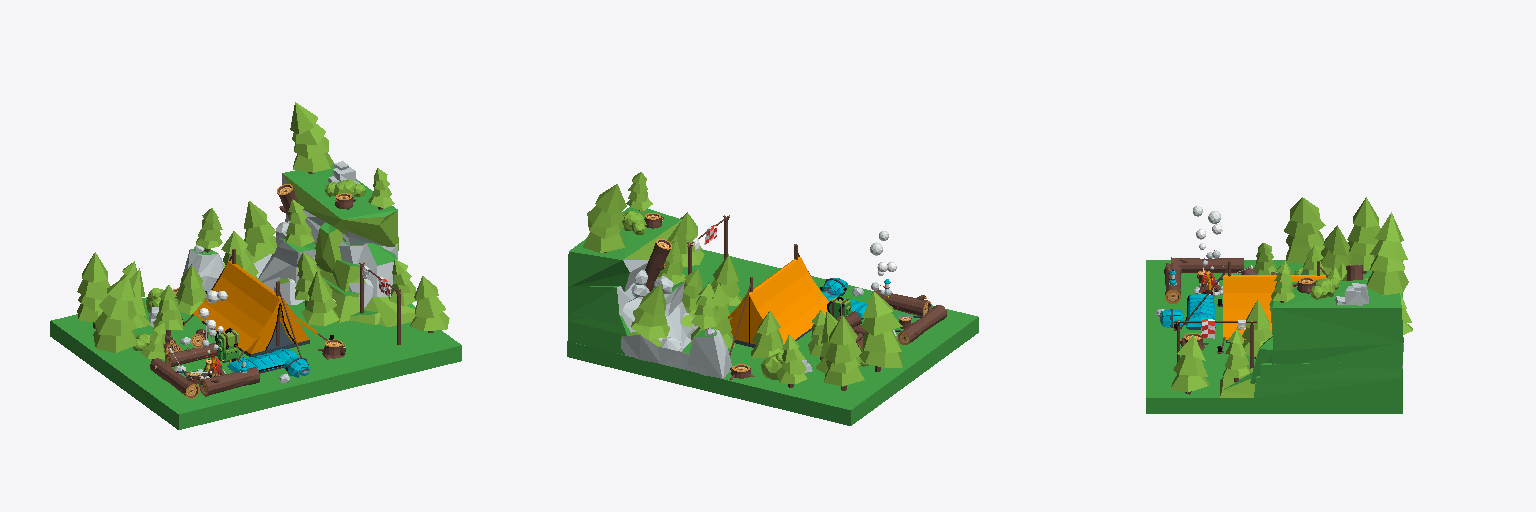
The model's file is model-triangulated.obj.
3 views of the same model, side by side, from view 1: azimuth 30°, elevation 25°; view 2: azimuth 150°, elevation 25°; view 3: azimuth 270°, elevation 25° (orthographic).
Visible parts, largest first — view 1: group[number redacted], group[number redacted], group[number redacted], group[number redacted], group[number redacted], group[number redacted], group[number redacted], group[number redacted], group[number redacted], group[number redacted], group[number redacted], group[number redacted] (+21 smaller); view 2: group[number redacted], group[number redacted], group[number redacted], group[number redacted], group[number redacted], group[number redacted], group[number redacted], group[number redacted], group[number redacted], group[number redacted], group[number redacted], group[number redacted] (+14 smaller); view 3: group[number redacted], group[number redacted], group[number redacted], group[number redacted], group[number redacted], group[number redacted], group[number redacted], group[number redacted], group[number redacted], group[number redacted], group[number redacted], group[number redacted] (+8 smaller).
Boxes of the visible parts, x1,y1,x2,y2 form: group[number redacted]: [50, 297, 461, 429]; group[number redacted]: [282, 164, 398, 250]; group[number redacted]: [193, 261, 280, 350]; group[number redacted]: [93, 275, 137, 352]; group[number redacted]: [290, 102, 333, 173]; group[number redacted]: [77, 252, 109, 328]; group[number redacted]: [258, 237, 316, 303]; group[number redacted]: [410, 276, 449, 332]; group[number redacted]: [244, 201, 276, 256]; group[number redacted]: [302, 270, 339, 325]; group[number redacted]: [357, 243, 396, 296]; group[number redacted]: [315, 222, 342, 272]; group[number redacted]: [567, 249, 978, 425]; group[number redacted]: [568, 207, 681, 291]; group[number redacted]: [749, 257, 828, 345]; group[number redacted]: [859, 291, 902, 371]; group[number redacted]: [583, 184, 626, 252]; group[number redacted]: [568, 268, 645, 323]; group[number redacted]: [824, 315, 864, 390]; group[number redacted]: [621, 332, 707, 375]; group[number redacted]: [687, 328, 732, 378]; group[number redacted]: [631, 284, 669, 338]; group[number redacted]: [622, 282, 690, 350]; group[number redacted]: [568, 321, 625, 354]; group[number redacted]: [1146, 260, 1402, 413]; group[number redacted]: [1269, 280, 1403, 350]; group[number redacted]: [1254, 369, 1402, 397]; group[number redacted]: [1272, 343, 1402, 368]; group[number redacted]: [1223, 275, 1325, 336]; group[number redacted]: [1367, 212, 1408, 295]; group[number redacted]: [1260, 362, 1401, 379]; group[number redacted]: [1284, 197, 1325, 263]; group[number redacted]: [1347, 197, 1380, 273]; group[number redacted]: [1170, 335, 1208, 394]; group[number redacted]: [1320, 225, 1351, 277]; group[number redacted]: [1242, 300, 1272, 358].
Size of the model in its own units: 6.38 by 3.73 by 5.